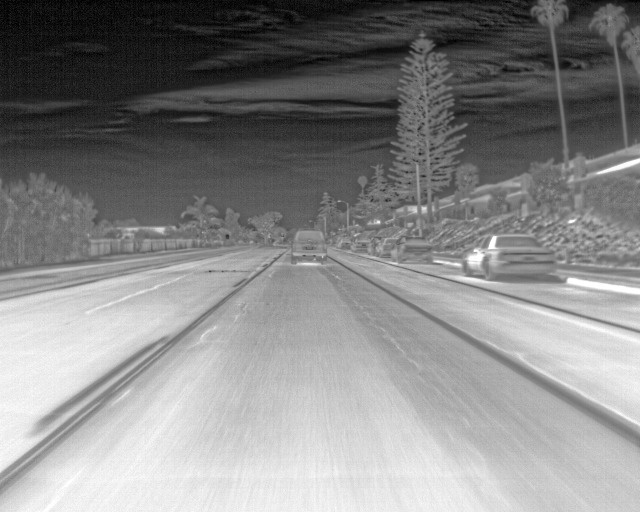vehicle: (463, 233, 554, 283), (292, 229, 328, 264), (391, 236, 433, 264)
